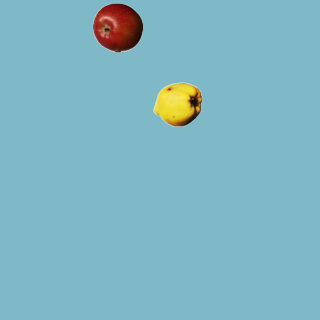Apple Braeburn: (92, 2, 142, 52)
Quince: (152, 79, 202, 129)
